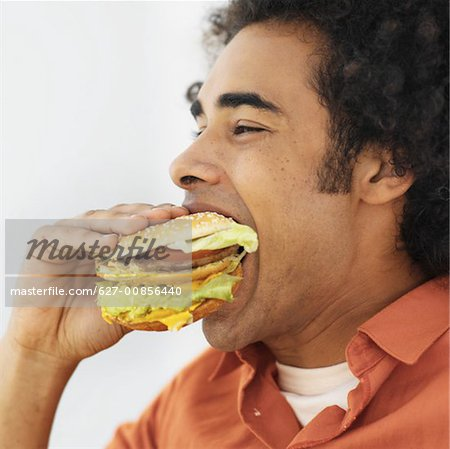eating: (30, 3, 425, 404)
